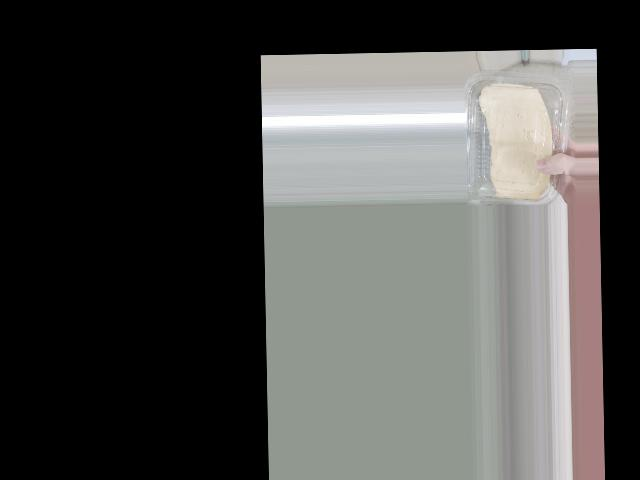cheese: (463, 69, 559, 207)
